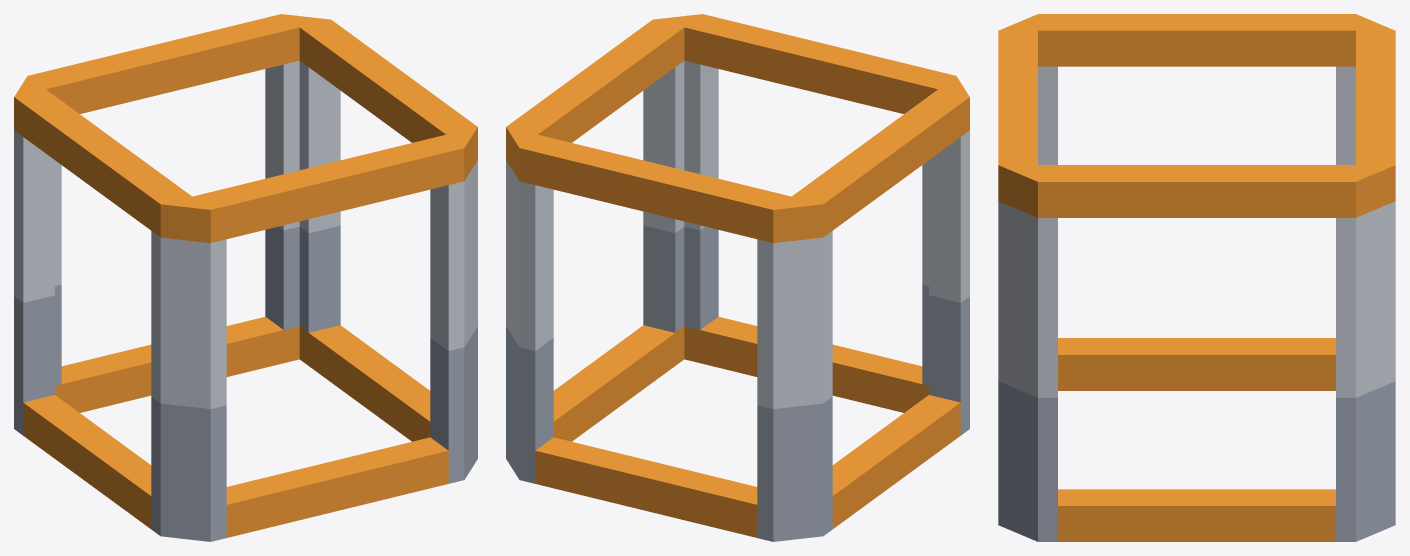
Rendered from structure_detailed.glb.
3 renders of one model, left to right at view 1: azimuth 30°, elevation 25°; view 2: azimuth 150°, elevation 25°; view 3: azimuth 270°, elevation 25°, orthographic. The views are drawn at different scales.
Parts seen in each view (by area): view 1: structure_detailed; view 2: structure_detailed; view 3: structure_detailed.
Boxes of the visible parts, x1,y1,x2,y2 form: structure_detailed: (14, 14, 477, 541); structure_detailed: (506, 14, 969, 541); structure_detailed: (998, 14, 1395, 541).
Bounding box in the file's own units: 1 × 1 × 1.
